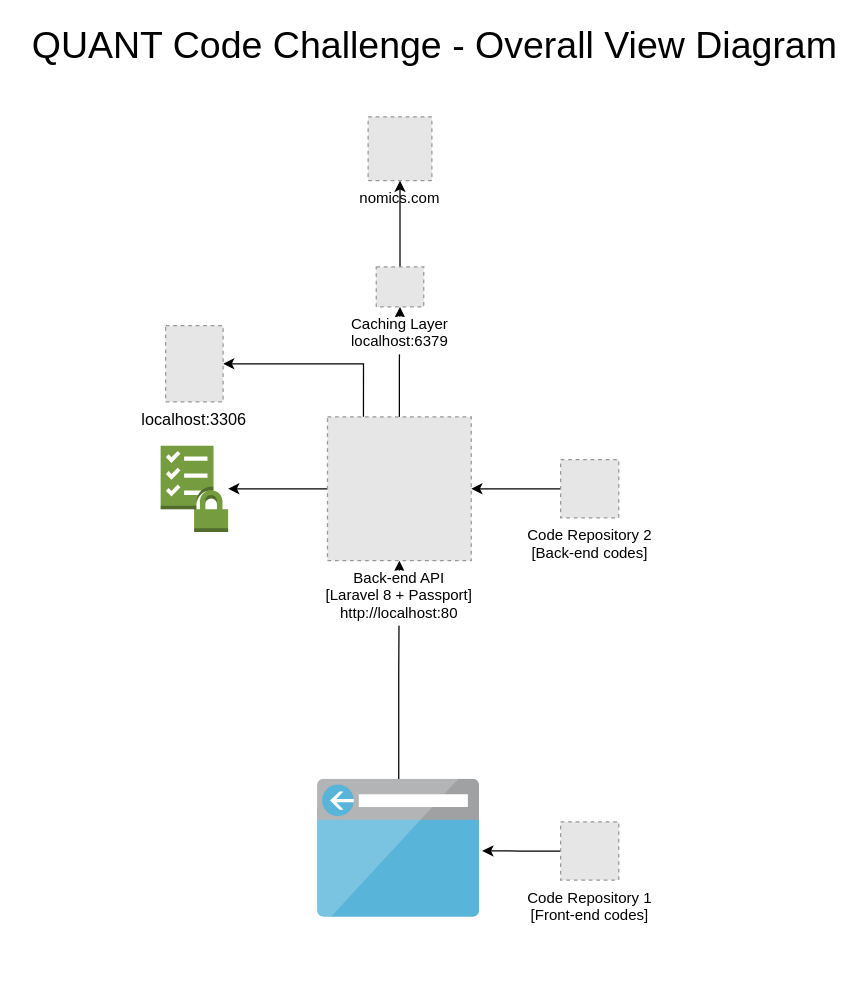
Some shapes in this 868 by 1008 pixel diagram are drawn without their labels. Grey dashed boxes stand in for pictures. The shapes that lost their labels are listed below. From the top down, each one's centre as x and y in pixels, then its label:
At (x=193, y=488): "Passport OAuth2 Data".
At (x=398, y=848): "Front-end APP [Vue + Vuetify] http://localhost:8080".
